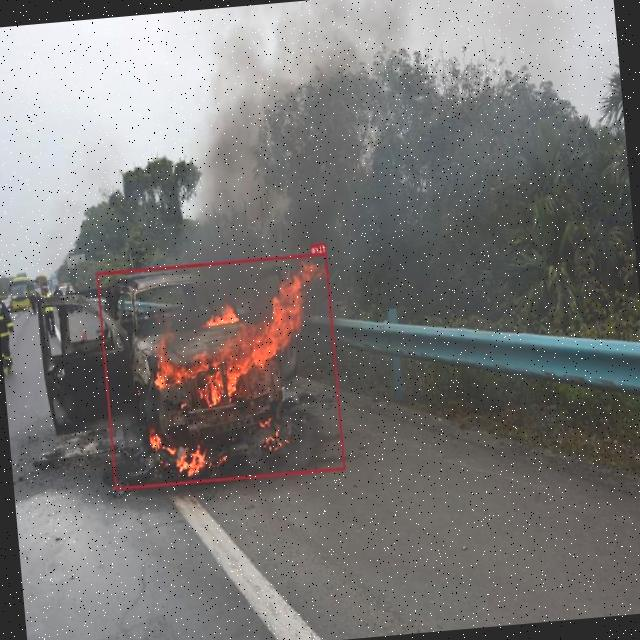fire: (97, 252, 346, 489)
